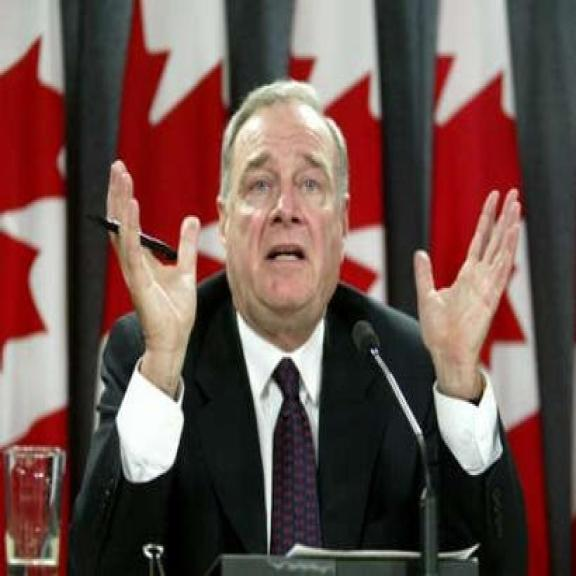face: (214, 120, 353, 326)
